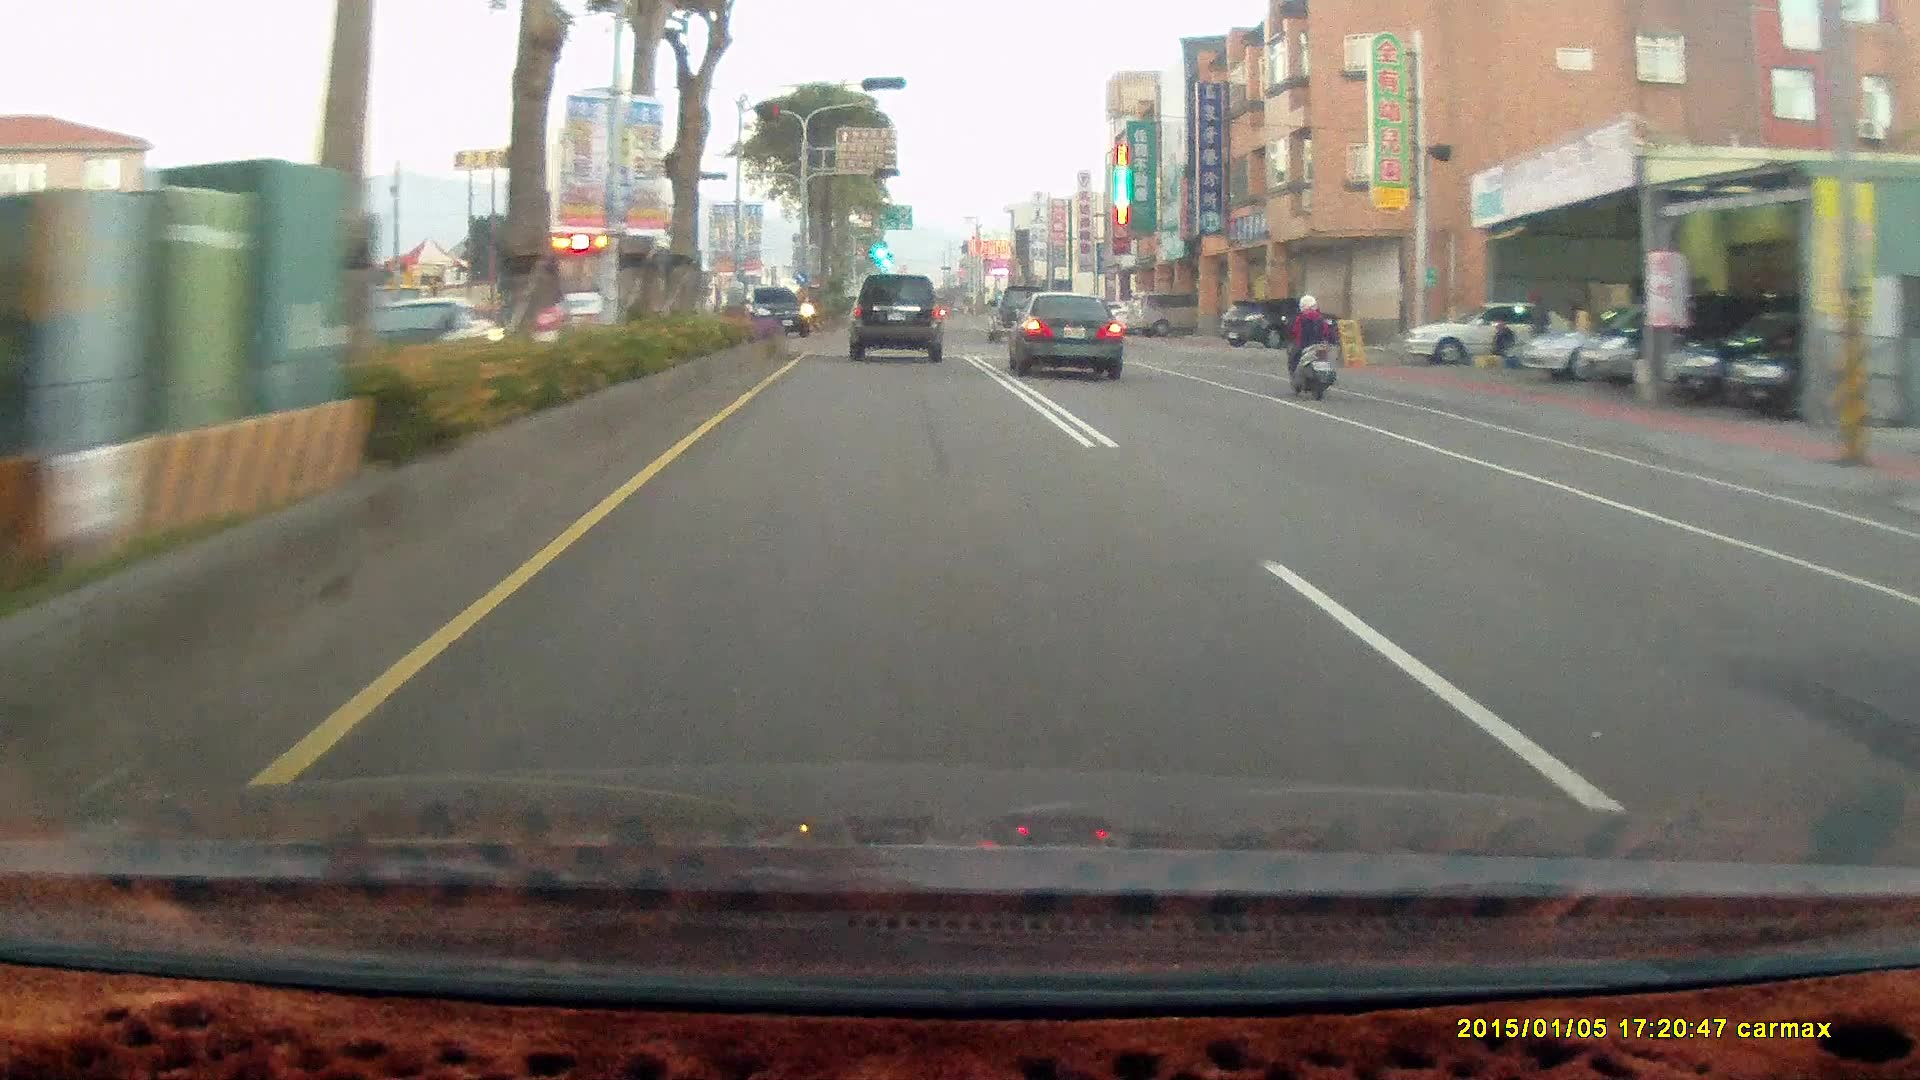pedestrian: (1525, 284, 1548, 363), (1489, 316, 1517, 368)
rider: (1272, 285, 1350, 407), (1278, 288, 1336, 395)
vehicle: (1732, 307, 1920, 420), (1665, 311, 1885, 408), (533, 227, 703, 343), (1581, 292, 1768, 387), (1523, 301, 1731, 381), (348, 296, 508, 388), (1392, 300, 1586, 375), (1401, 299, 1579, 367), (1016, 296, 1133, 392), (1003, 288, 1123, 378), (847, 278, 948, 369), (846, 273, 943, 360), (1221, 298, 1351, 352), (1217, 299, 1340, 351), (1122, 289, 1213, 338), (739, 286, 813, 337), (741, 287, 815, 339), (985, 285, 1050, 342)
